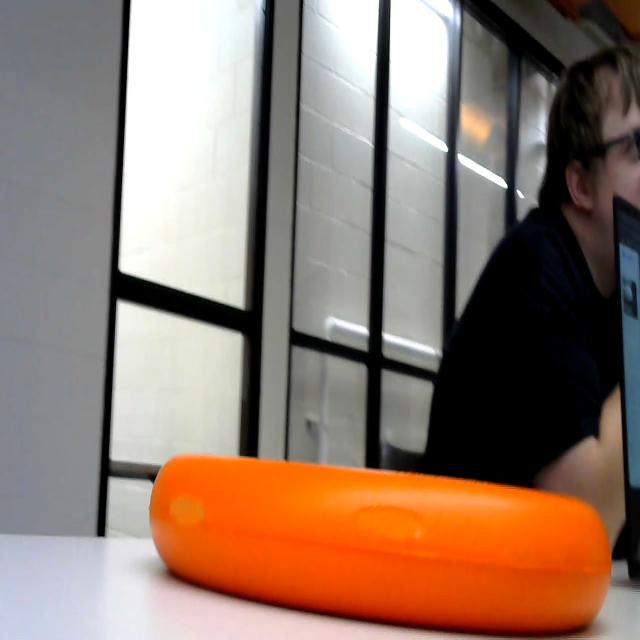note: (144, 441, 615, 640)
